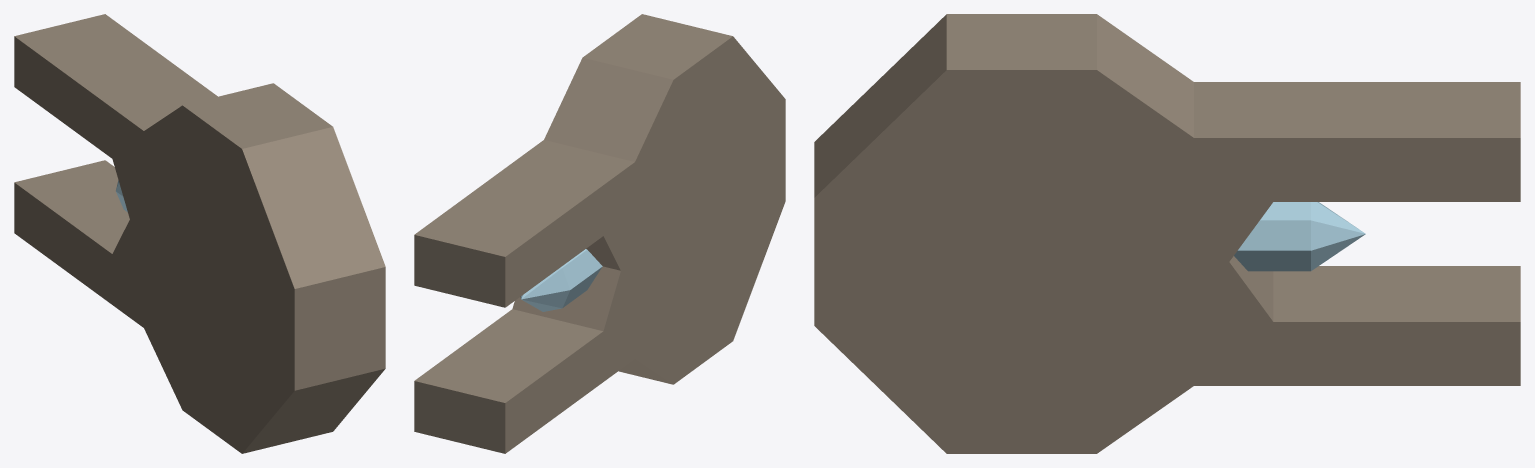
File: centipede_blaster_weapon.obj
3 views of the same model, side by side, from view 1: azimuth 30°, elevation 25°; view 2: azimuth 150°, elevation 25°; view 3: azimuth 270°, elevation 25° (orthographic). The views are drawn at different scales.
Visible parts, largest first — view 1: centipede_blaster_weapon; view 2: centipede_blaster_weapon; view 3: centipede_blaster_weapon.
Part boxes in pixels (x1=…): centipede_blaster_weapon: x1=14, y1=14, x2=385, y2=453; centipede_blaster_weapon: x1=414, y1=14, x2=785, y2=453; centipede_blaster_weapon: x1=814, y1=14, x2=1520, y2=453.
Size of the model in its own units: 0.12 by 0.384 by 0.64.
